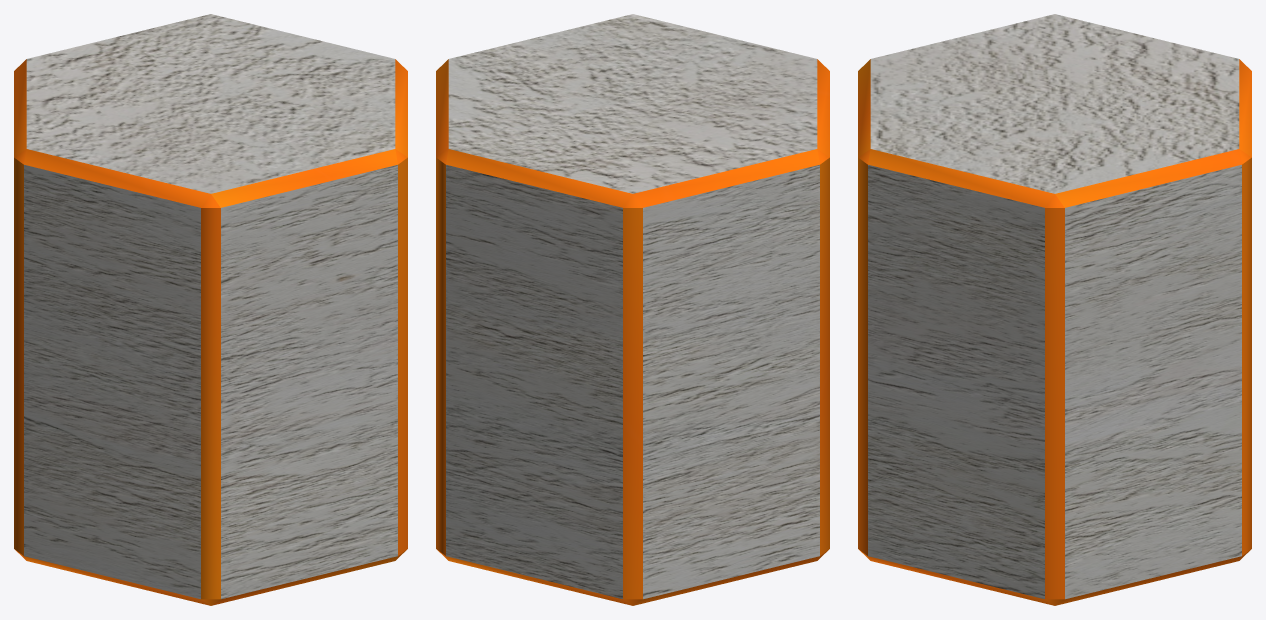
File: Hexagon 3D.fbx
The picture shows the model from 3 angles, left to right: view 1: azimuth 30°, elevation 25°; view 2: azimuth 150°, elevation 25°; view 3: azimuth 270°, elevation 25°; orthographic projection.
Parts seen in each view (by area): view 1: pCylinder1; view 2: pCylinder1; view 3: pCylinder1.
Part boxes in pixels (<box>): pCylinder1: <box>14,14,407,605</box>; pCylinder1: <box>436,14,829,605</box>; pCylinder1: <box>858,14,1251,605</box>.
Size of the model in its own units: 1.95 by 2 by 1.73.
Materials: 1 (1 with a texture image).
